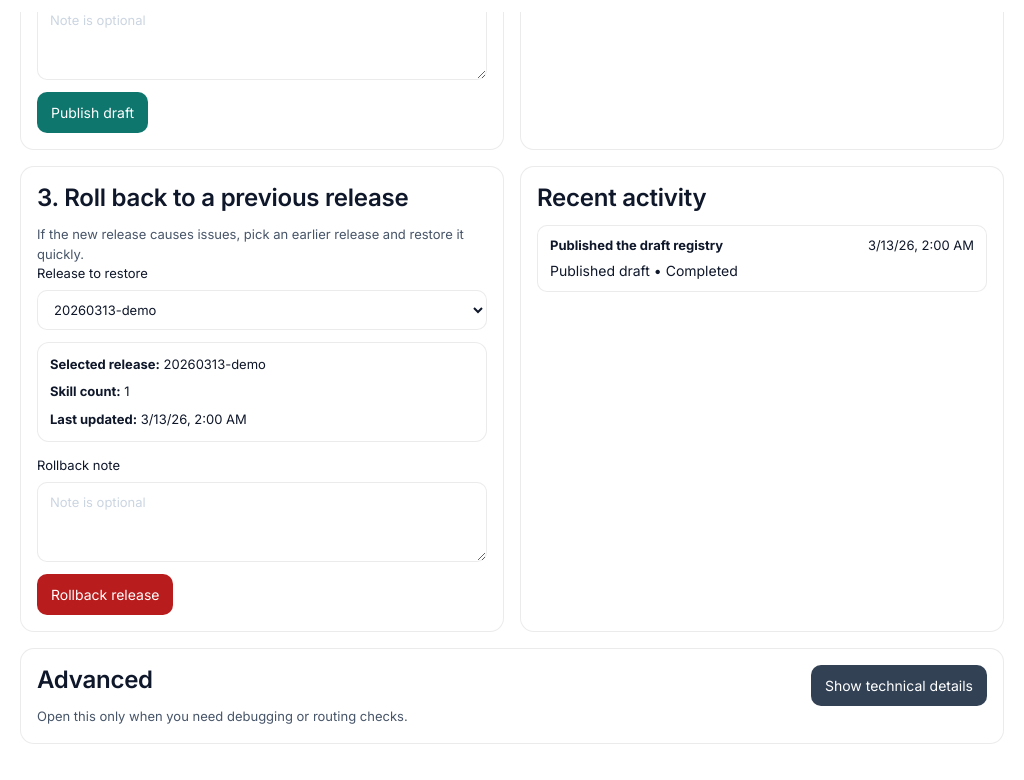
Test: AdminConsole › keeps technical tools hidden until advanced mode is opened
(page scrolled)
Expected: the text "Check skill routing" is not shown
Click the button "Show technical details": x=899, y=686 [811,665,987,706]
(page scrolled)
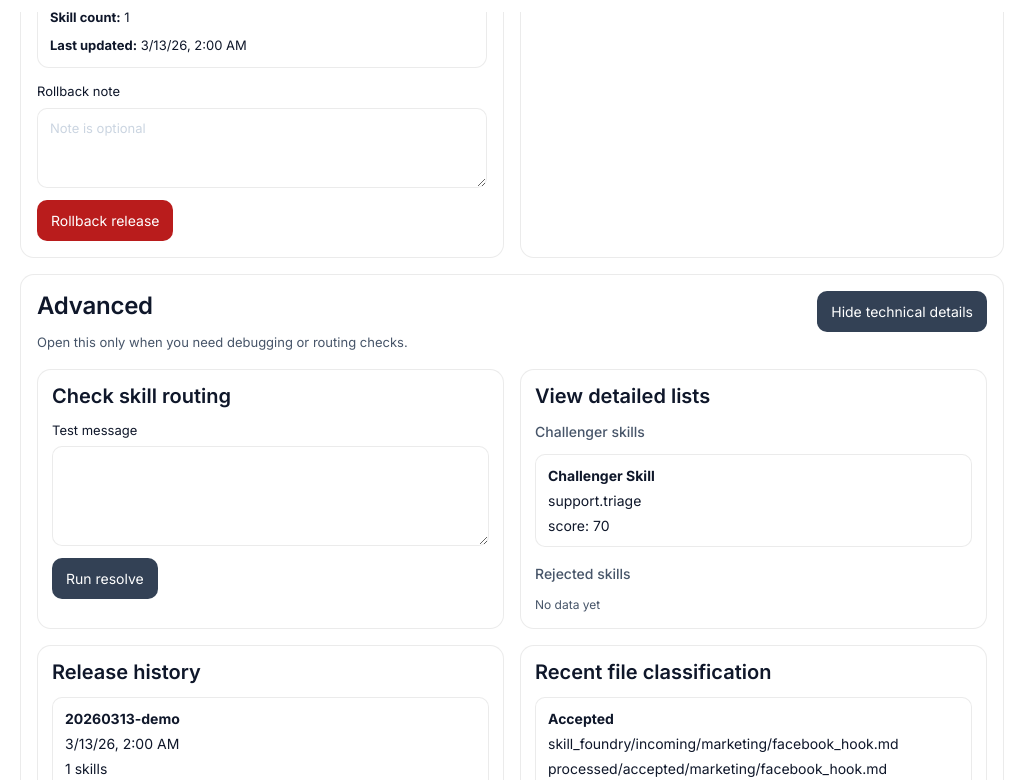
Now the heading "Check skill routing" is shown, box [52,384,231,408]
